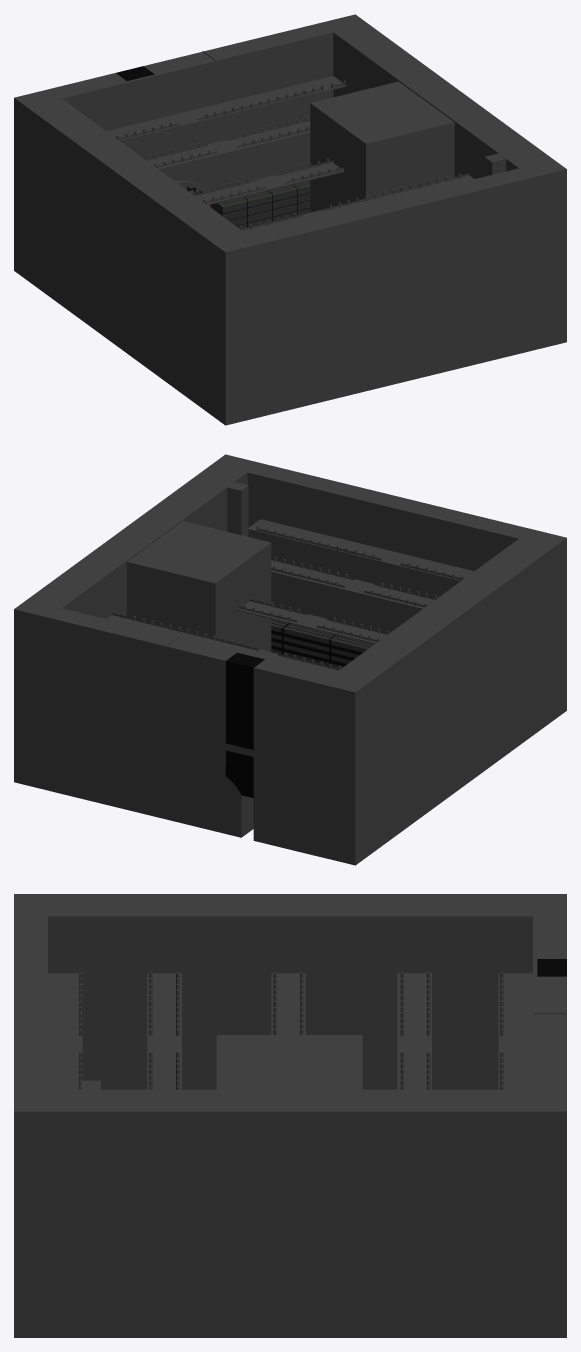
File: decor.fbx
The picture shows the model from 3 angles, top to bottom: view 1: azimuth 30°, elevation 25°; view 2: azimuth 150°, elevation 25°; view 3: azimuth 270°, elevation 25°; orthographic projection. The views are drawn at different scales.
Visible parts, largest first — view 1: Mur, Box013, Cylinder016, Floor_004, JW, Box019, Box018, Cylinder009, Fence_003_00, Fence_008_00; view 2: Mur, Box013, Floor_009, Cylinder001, Cylinder009, Box018, Box019, Box014, JW, Fence_006_00; view 3: Mur, Box013, Cylinder016, Cylinder001, Cylinder009, Box019, Box018.
Part boxes in pixels (x1=…): Mur: x1=14, y1=14, x2=566, y2=425; Box013: x1=310, y1=81, x2=454, y2=212; Cylinder016: x1=106, y1=76, x2=346, y2=141; Floor_004: x1=210, y1=180, x2=310, y2=228; JW: x1=505, y1=168, x2=531, y2=353; Box019: x1=147, y1=121, x2=310, y2=169; Box018: x1=195, y1=162, x2=344, y2=205; Cylinder009: x1=243, y1=175, x2=473, y2=234; Fence_003_00: x1=323, y1=173, x2=469, y2=211; Fence_008_00: x1=199, y1=80, x2=345, y2=120; Mur: x1=14, y1=454, x2=566, y2=865; Box013: x1=127, y1=521, x2=271, y2=651; Floor_009: x1=271, y1=619, x2=373, y2=668; Cylinder001: x1=248, y1=519, x2=473, y2=581; Cylinder009: x1=271, y1=560, x2=434, y2=609; Box018: x1=238, y1=601, x2=386, y2=644; Box019: x1=106, y1=615, x2=338, y2=674; Box014: x1=227, y1=482, x2=248, y2=536; JW: x1=247, y1=463, x2=273, y2=539; Fence_006_00: x1=112, y1=612, x2=258, y2=650; Mur: x1=14, y1=894, x2=566, y2=1337; Box013: x1=216, y1=1035, x2=362, y2=1089; Cylinder016: x1=498, y1=973, x2=532, y2=1089; Cylinder001: x1=48, y1=973, x2=82, y2=1089; Cylinder009: x1=147, y1=973, x2=181, y2=1089; Box019: x1=397, y1=973, x2=431, y2=1089; Box018: x1=271, y1=973, x2=305, y2=1034.
Bounding box in the file's own units: 520 × 253 × 559.
4 materials, 2 textured.
